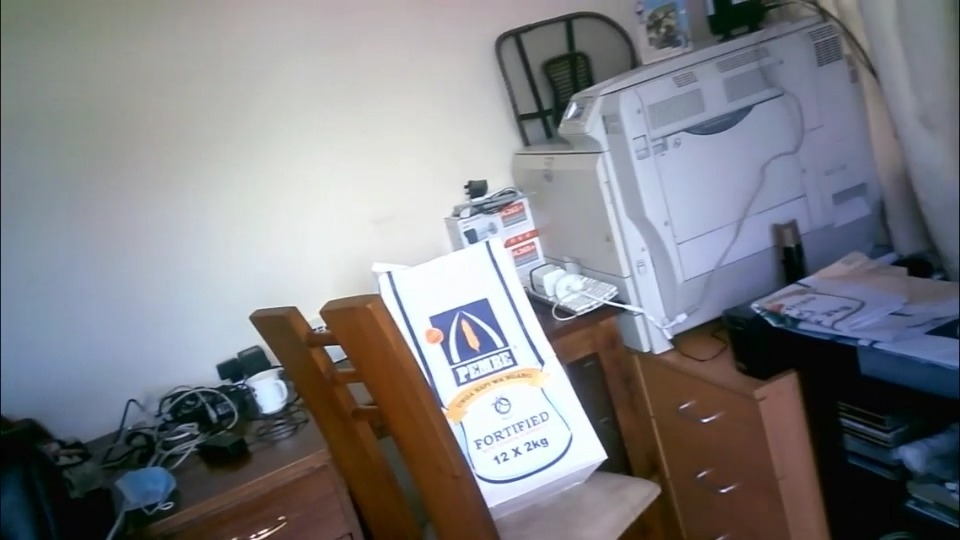wheat_flour_blue_label: (384, 240, 609, 518)
